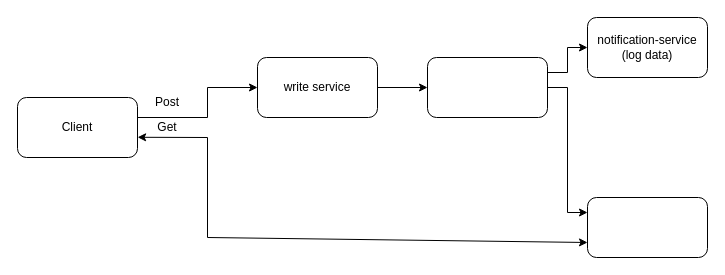
Some shapes in this 725 by 275 pixel diagram are drawn without their labels. Each missing label, with the centre of its shape:
Kaffka: [487,87]
read service (save data in store): [647,227]
